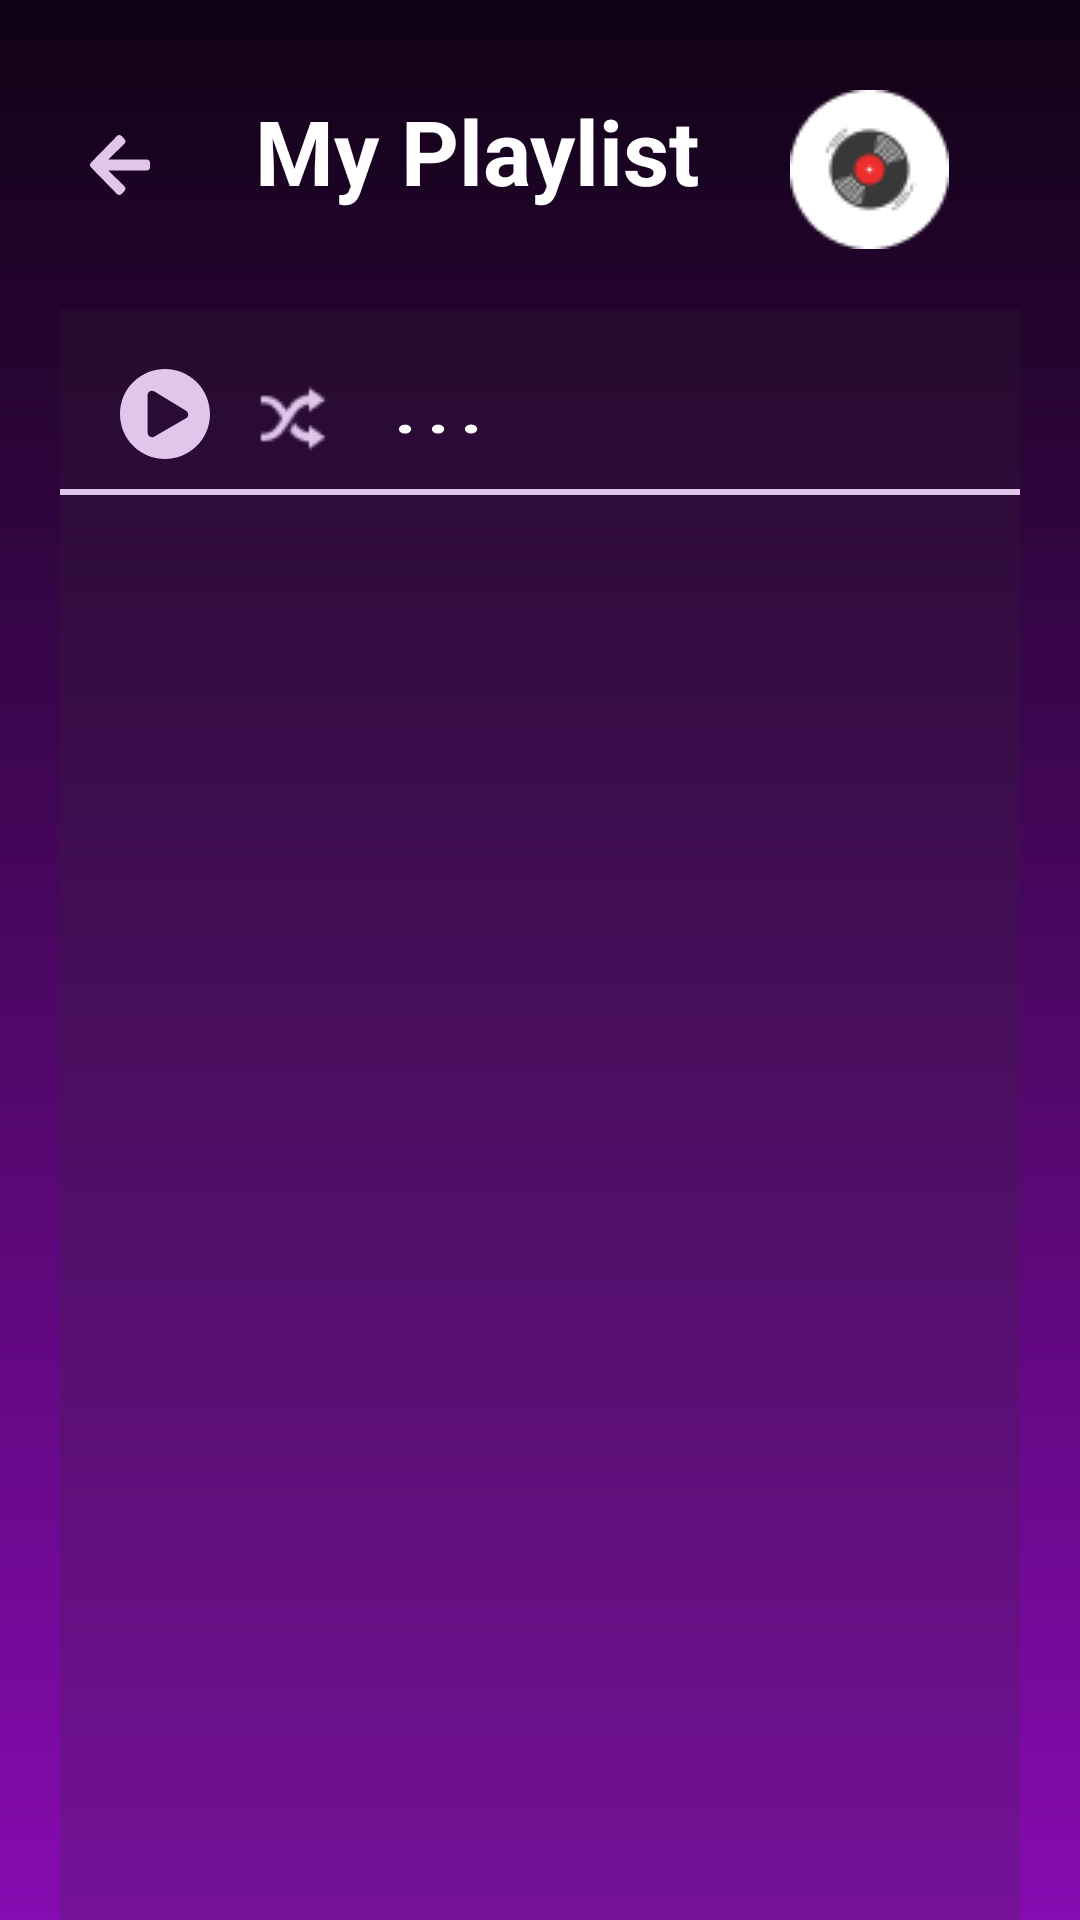

Icon bounding boxes for this 1080*1920 phone screenshot, format (x1, y1, x2, y2):
play playlist: (120, 369, 210, 459)
point leftarrow: (90, 135, 150, 195)
shuffle playlist: (260, 387, 325, 450)
